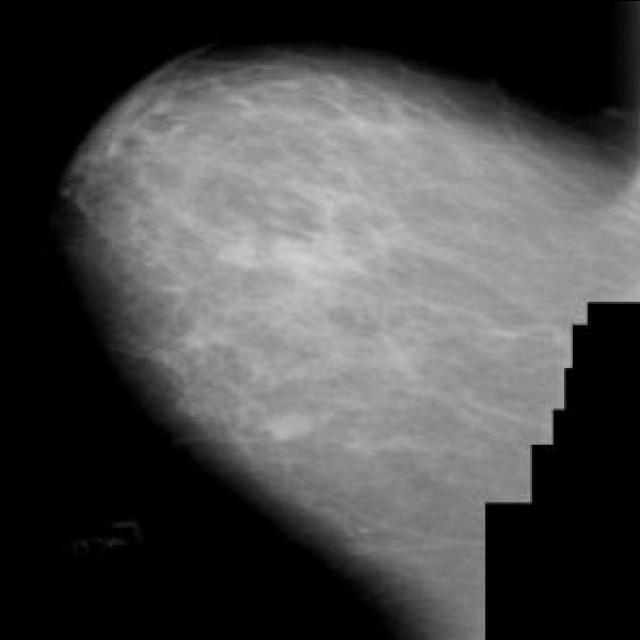tumor: (180, 215, 358, 448)
